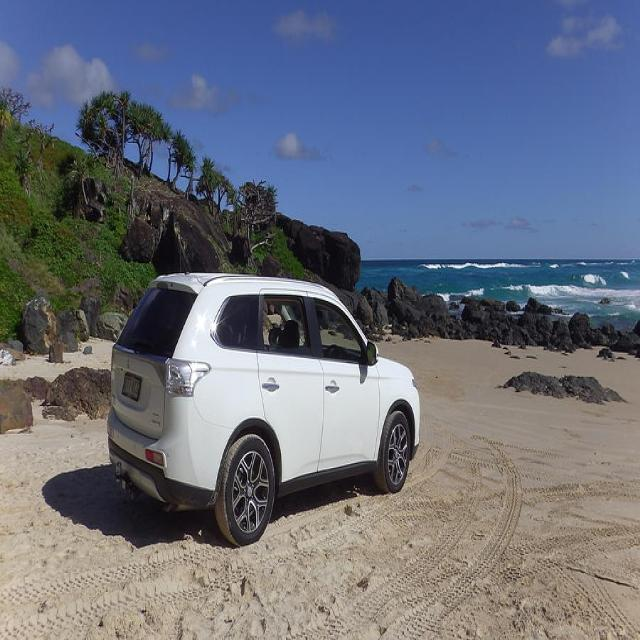light_vehicle: (106, 270, 422, 548)
